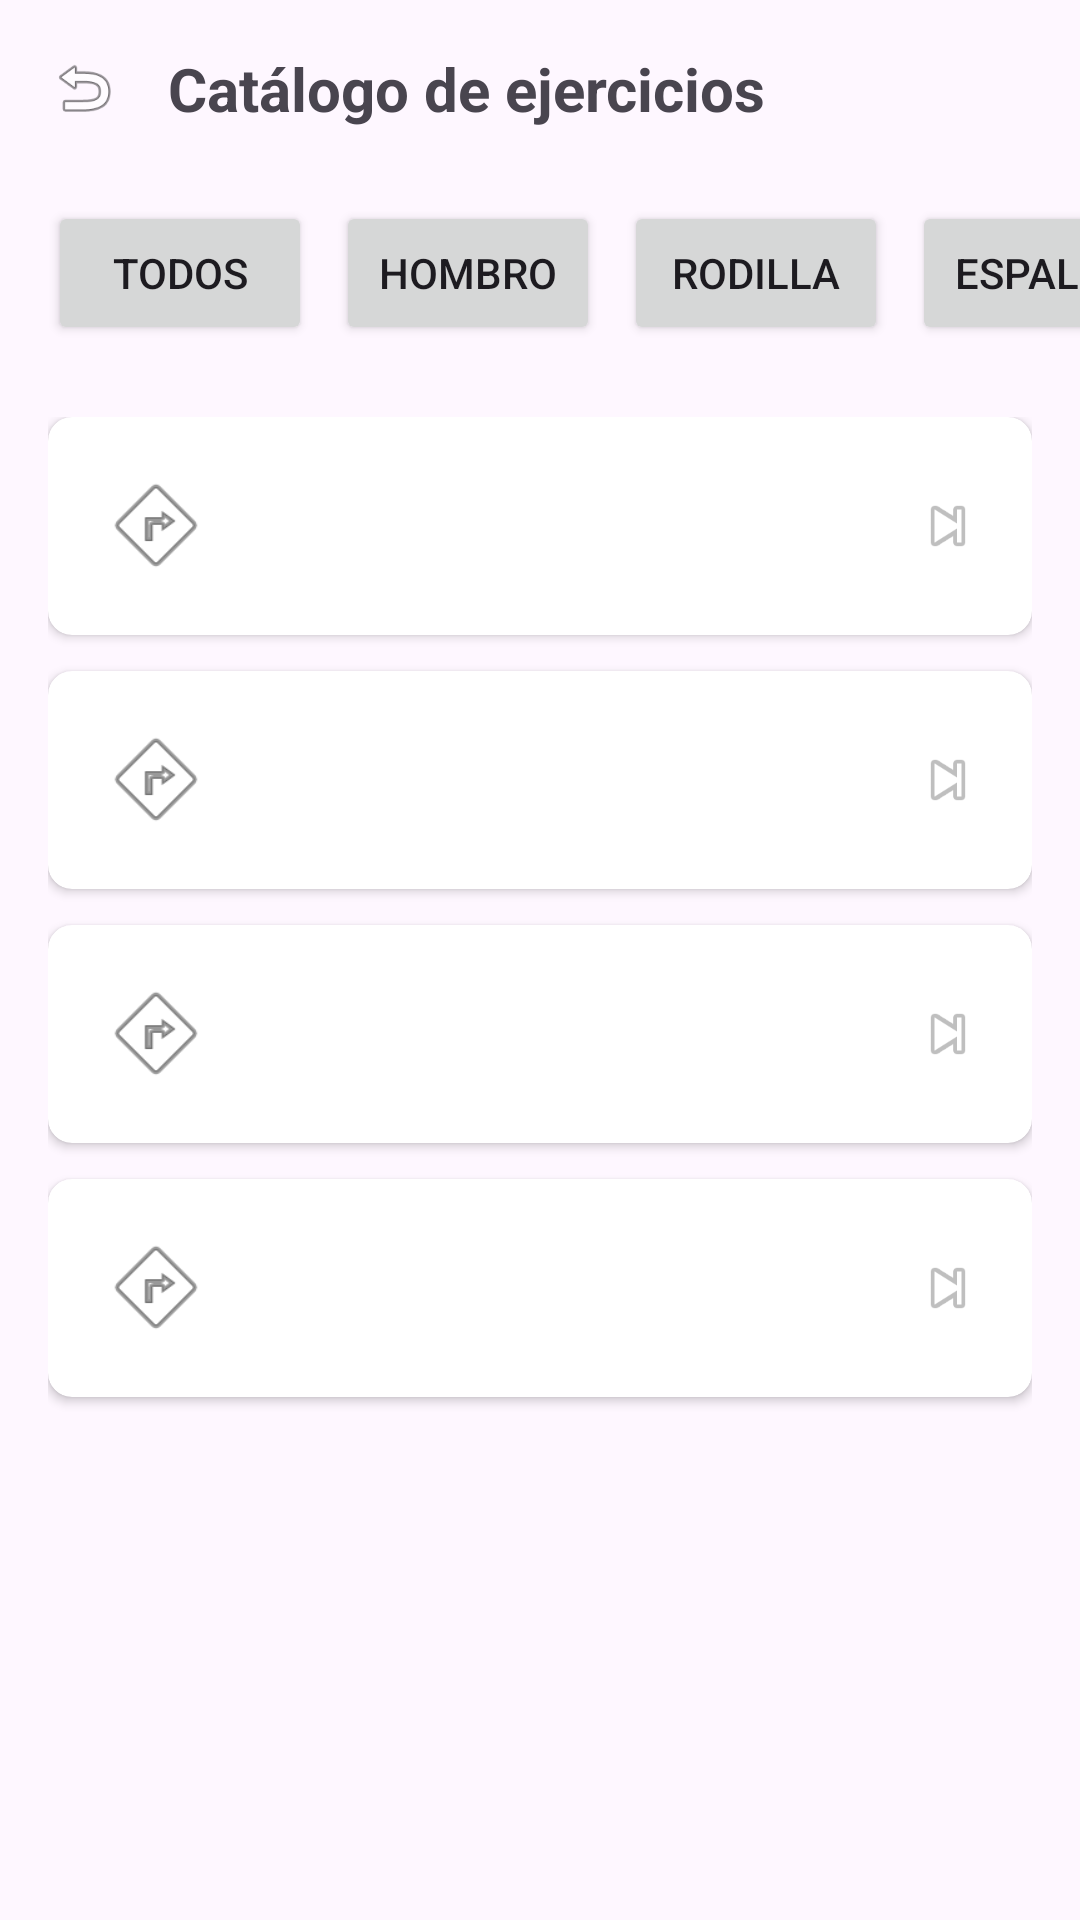

Named icons in this screenshot (1080px×1920px) and their centers, (x=x, y=y):
directions: (x=156, y=525), (x=156, y=779), (x=156, y=1033), (x=156, y=1287)
next: (x=948, y=526), (x=948, y=780), (x=948, y=1034), (x=948, y=1288)
revert: (x=85, y=88)
